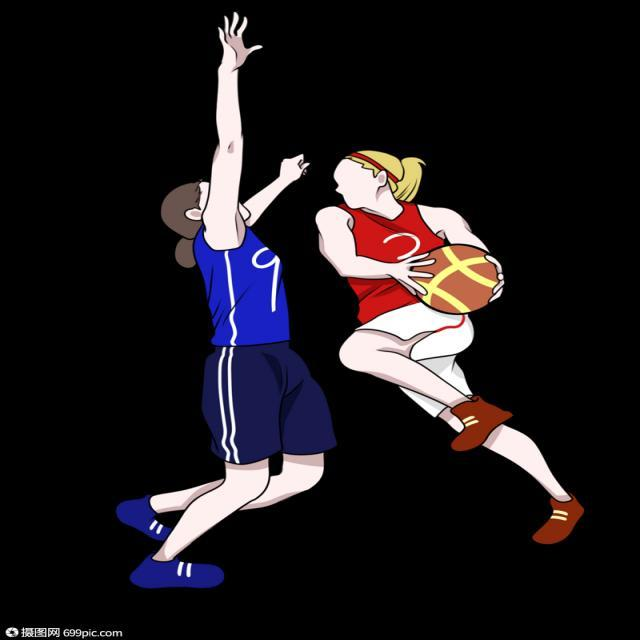rim: (412, 243, 502, 312)
